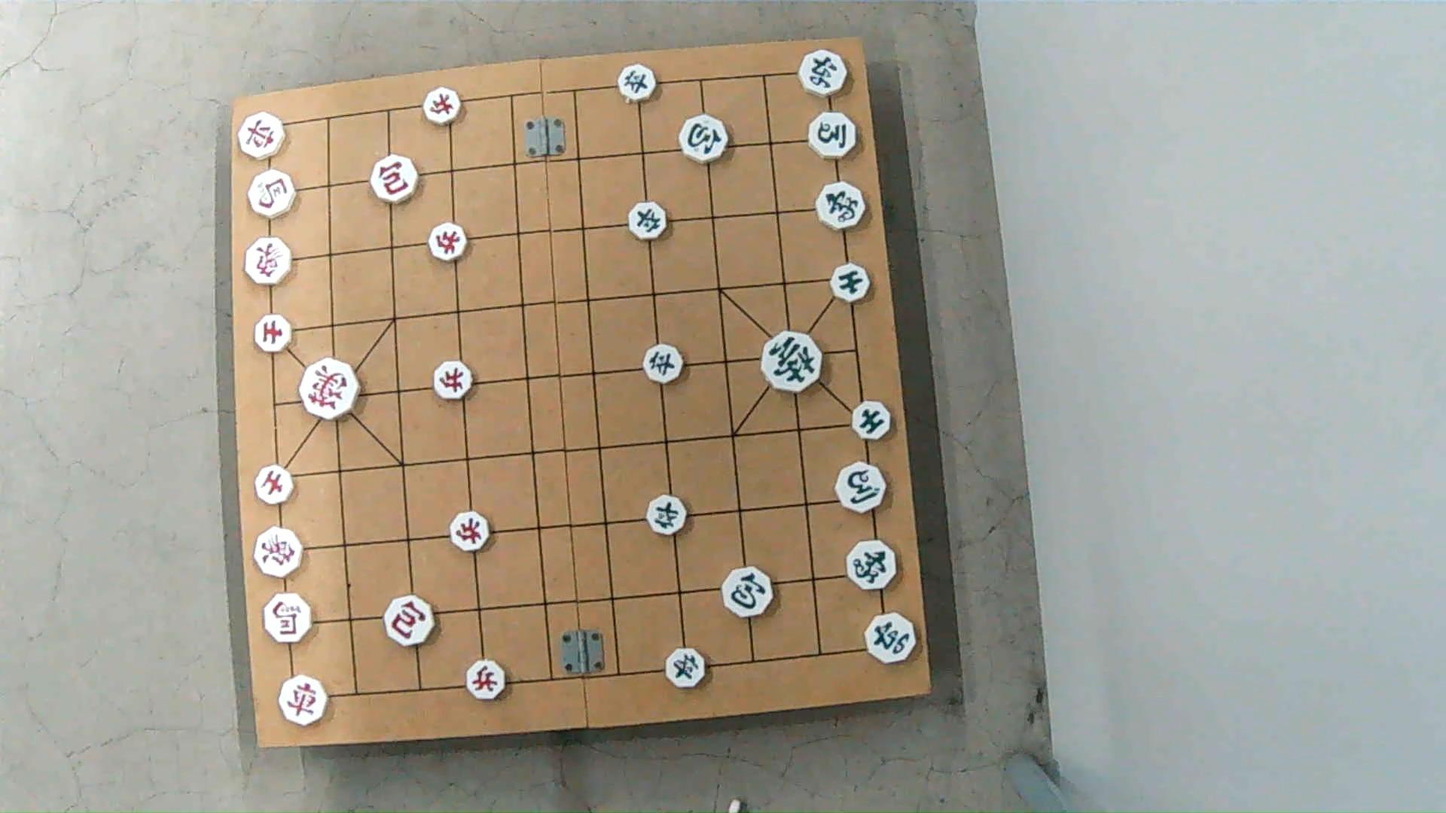cha_green: (865, 614, 920, 662), (798, 53, 850, 94)
cha_red: (279, 677, 331, 726), (237, 114, 288, 157)
jol_green: (664, 649, 709, 687), (645, 500, 689, 536), (627, 206, 669, 241), (620, 68, 662, 102), (642, 348, 684, 381)
jol_red: (450, 515, 493, 552), (465, 662, 507, 699), (433, 363, 474, 398), (425, 225, 466, 260), (421, 90, 463, 123)
ma_green: (834, 465, 889, 511), (807, 114, 859, 158)
ma_red: (246, 168, 298, 218), (264, 595, 311, 645)
po_green: (722, 571, 776, 616), (676, 116, 728, 159)
po_red: (385, 600, 437, 645), (371, 159, 420, 203)
sa_green: (852, 402, 895, 438), (828, 266, 871, 300)
sa_red: (252, 467, 295, 503), (255, 316, 291, 352)
sang_green: (847, 538, 901, 589), (816, 184, 865, 228)
sang_red: (252, 525, 302, 579), (241, 241, 291, 285)
wang_green: (761, 333, 827, 391)
wang_red: (298, 364, 359, 420)
